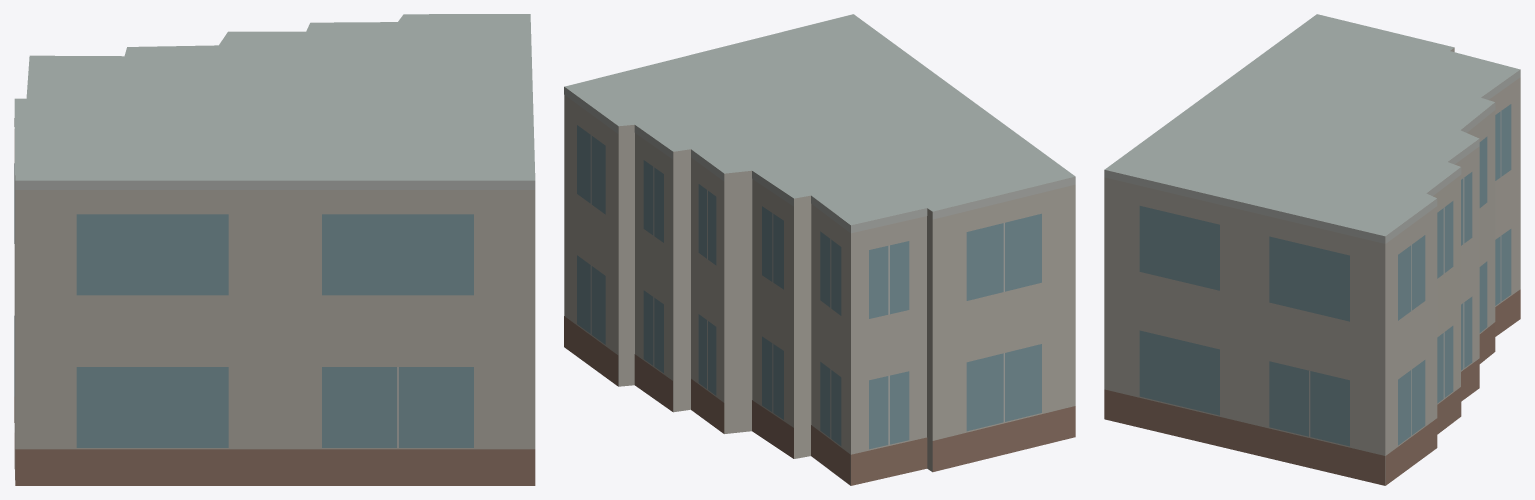
Rendered from survey-upis-32499859.glb.
The picture shows the model from 3 angles, left to right: view 1: azimuth 30°, elevation 25°; view 2: azimuth 150°, elevation 25°; view 3: azimuth 270°, elevation 25°; orthographic projection. The views are drawn at different scales.
Parts seen in each view (by area): view 1: survey-upis-32499859.tmp; view 2: survey-upis-32499859.tmp; view 3: survey-upis-32499859.tmp.
Boxes of the visible parts, x1,y1,x2,y2 form: survey-upis-32499859.tmp: [14, 14, 535, 485]; survey-upis-32499859.tmp: [564, 14, 1075, 485]; survey-upis-32499859.tmp: [1104, 14, 1520, 485].
Bounding box in the file's own units: 15.2 × 7.95 × 12.03.
